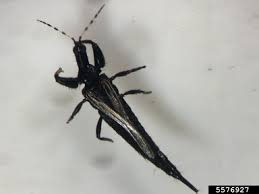Phlaeothripidae: (36, 3, 200, 193)
